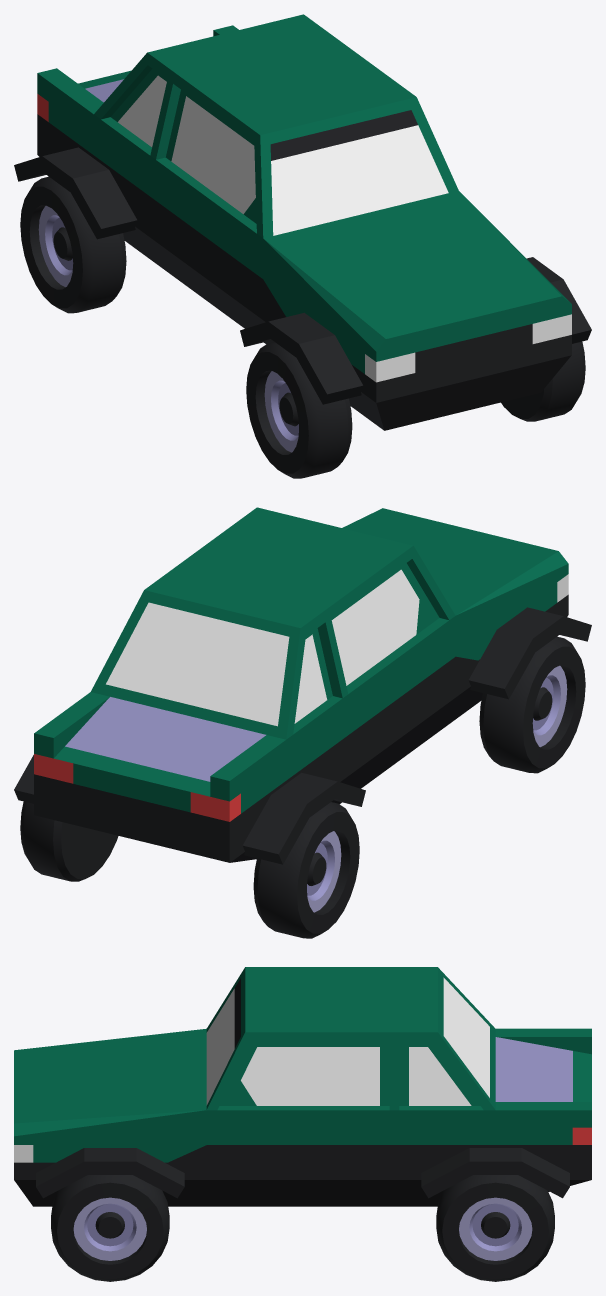
File: Car.fbx
3 views of the same model, one above another, from view 1: azimuth 30°, elevation 25°; view 2: azimuth 150°, elevation 25°; view 3: azimuth 270°, elevation 25° (orthographic). The views are drawn at different scales.
Parts seen in each view (by area): view 1: body_frontLarge, body_topSteep, wheel_standard (×3), body_standard, wheel_coverSquare (×3), body_backFins, body_topBackStandard; view 2: body_backFins, body_topBackStandard, wheel_standard (×3), body_topSteep, body_frontLarge, body_standard, wheel_coverSquare (×3); view 3: body_topSteep, body_frontLarge, wheel_standard (×2), body_standard, body_backFins, body_topBackStandard, wheel_coverSquare (×2).
Part boxes in pixels (x1=…): body_frontLarge: x1=263, y1=190, x2=571, y2=430; body_topSteep: x1=150, y1=31, x2=458, y2=238; wheel_standard (×3): x1=20, y1=176, x2=585, y2=478; body_standard: x1=150, y1=156, x2=274, y2=344; wheel_coverSquare (×3): x1=14, y1=147, x2=591, y2=404; body_backFins: x1=37, y1=25, x2=238, y2=273; body_topBackStandard: x1=94, y1=14, x2=325, y2=146; body_backFins: x1=34, y1=692, x2=342, y2=862; body_topBackStandard: x1=91, y1=573, x2=332, y2=739; wheel_standard (×3): x1=20, y1=636, x2=585, y2=938; body_topSteep: x1=167, y1=507, x2=455, y2=698; body_frontLarge: x1=342, y1=508, x2=568, y2=733; body_standard: x1=331, y1=616, x2=455, y2=804; wheel_coverSquare (×3): x1=14, y1=607, x2=591, y2=864; body_topSteep: x1=206, y1=967, x2=399, y2=1110; body_frontLarge: x1=14, y1=1028, x2=206, y2=1206; wheel_standard (×2): x1=51, y1=1175, x2=554, y2=1281; body_standard: x1=206, y1=1106, x2=399, y2=1206; body_backFins: x1=399, y1=1028, x2=591, y2=1206; body_topBackStandard: x1=399, y1=967, x2=495, y2=1110; wheel_coverSquare (×2): x1=36, y1=1148, x2=569, y2=1198.
Size of the model in its own units: 14.16 by 13.08 by 30.
